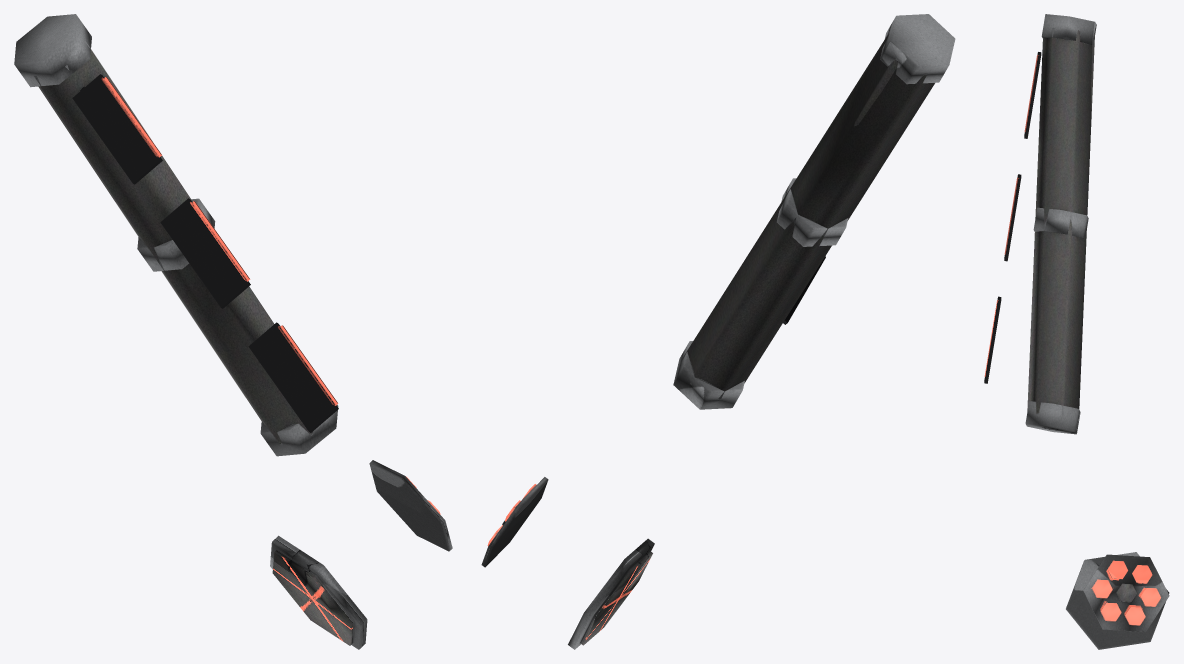
Rendered from hv3_harvester_hive.gltf.
3 renders of one model, left to right at view 1: azimuth 30°, elevation 25°; view 2: azimuth 150°, elevation 25°; view 3: azimuth 270°, elevation 25°, orthographic. The views are drawn at different scales.
Visible parts, largest first — view 1: B_forearm_L__hv3_harvester_hive, B_hand_L__hv3_harvester_hive; view 2: B_forearm_L__hv3_harvester_hive, B_hand_L__hv3_harvester_hive; view 3: B_forearm_L__hv3_harvester_hive, B_hand_L__hv3_harvester_hive.
Boxes of the visible parts, x1=… form: B_forearm_L__hv3_harvester_hive: x1=14, y1=14, x2=338, y2=456; B_hand_L__hv3_harvester_hive: x1=270, y1=460, x2=452, y2=649; B_forearm_L__hv3_harvester_hive: x1=673, y1=14, x2=955, y2=409; B_hand_L__hv3_harvester_hive: x1=481, y1=477, x2=654, y2=649; B_forearm_L__hv3_harvester_hive: x1=984, y1=14, x2=1096, y2=434; B_hand_L__hv3_harvester_hive: x1=1066, y1=552, x2=1169, y2=649.
Size of the model in its own units: 0.1688 by 0.2544 by 0.0812.
Materials: 1 (1 with a texture image).
